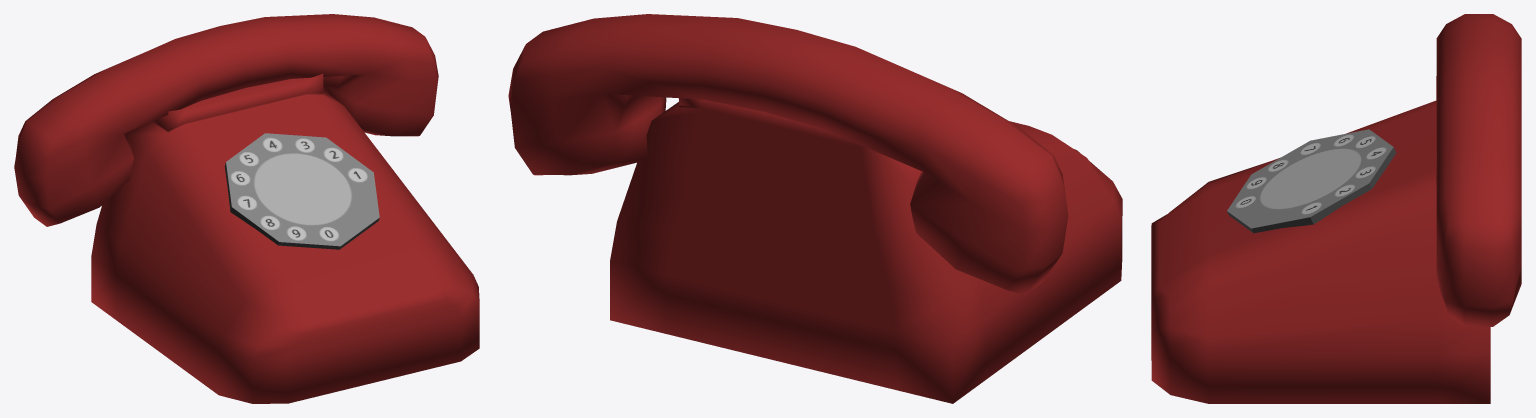
Rendered from telephone_geo.fbx.
3 renders of one model, left to right at view 1: azimuth 30°, elevation 25°; view 2: azimuth 150°, elevation 25°; view 3: azimuth 270°, elevation 25°, orthographic. The views are drawn at different scales.
Parts seen in each view (by area): view 1: telephone_geo; view 2: telephone_geo; view 3: telephone_geo.
Boxes of the visible parts, left/top/right/bottom form: telephone_geo: left=14, top=14, right=479, bottom=403; telephone_geo: left=508, top=14, right=1122, bottom=403; telephone_geo: left=1151, top=14, right=1521, bottom=403.
Bounding box in the file's own units: 0.8765 × 0.4952 × 0.6179.
1 material, 1 textured.
